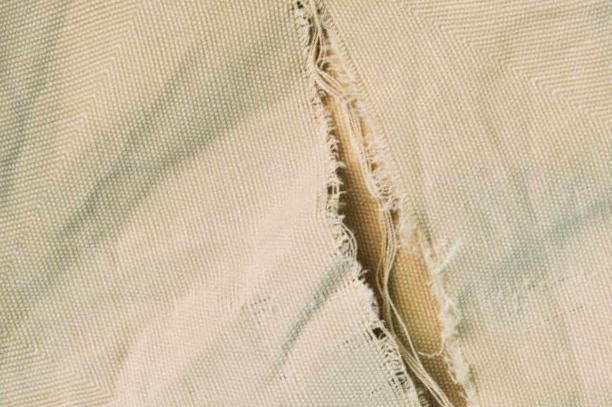hole: (284, 0, 485, 406)
